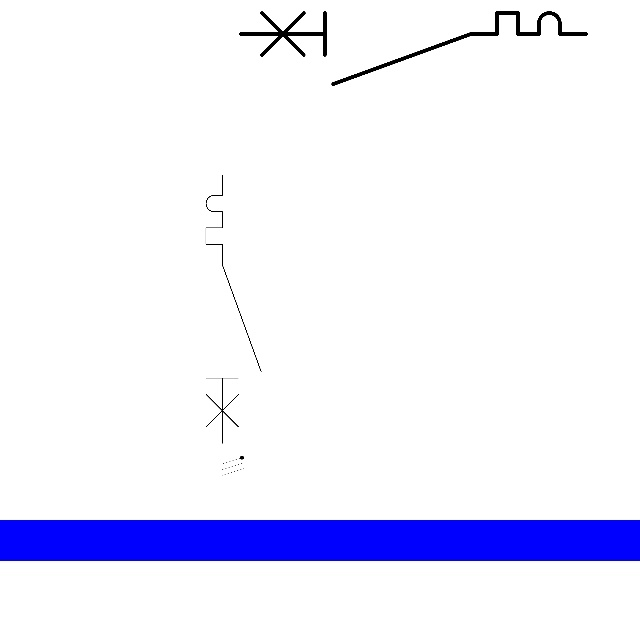interruptor_termomagnetico: (232, 4, 595, 93), (199, 168, 268, 450)
